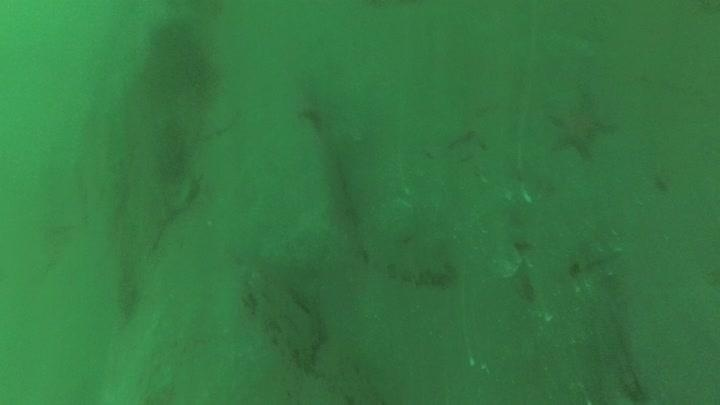holothurian: (355, 225, 459, 288)
starfish: (543, 87, 618, 160)
